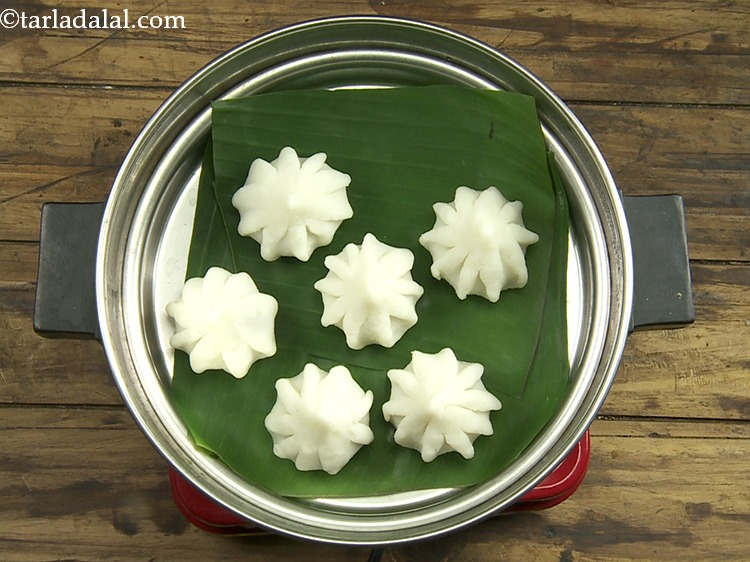modak: (308, 223, 438, 355), (260, 351, 382, 478), (427, 186, 549, 306), (148, 270, 283, 375), (245, 149, 359, 262), (400, 356, 501, 476)
